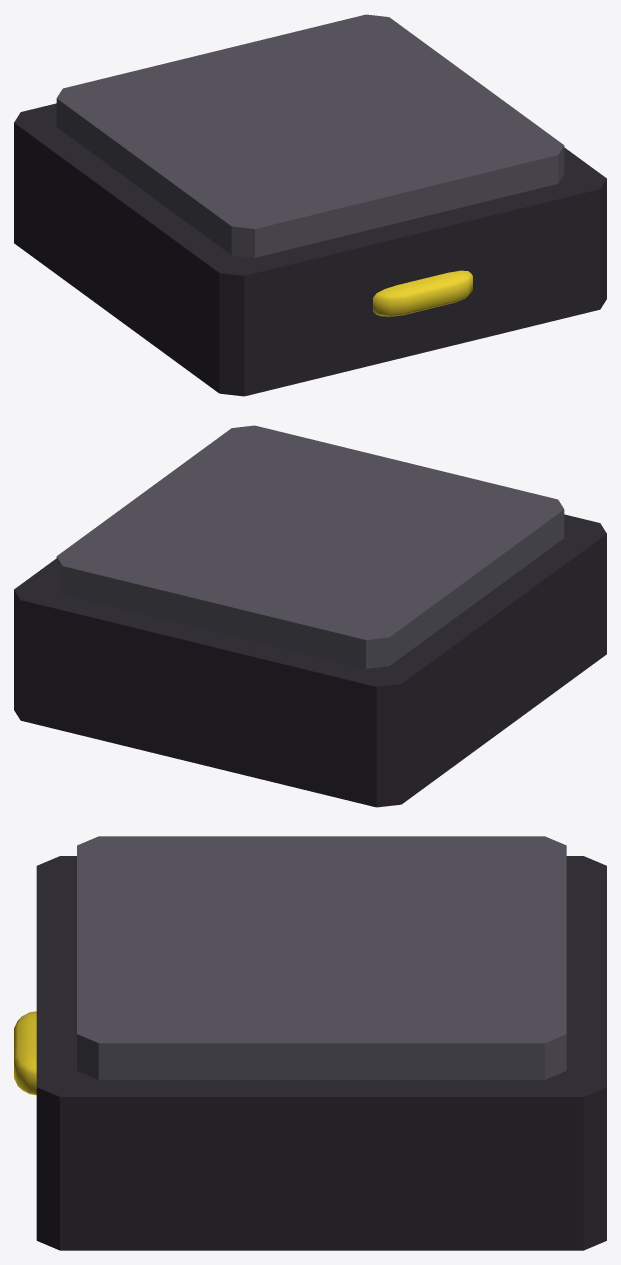
The model's file is Telescopic_Base.fbx.
3 renders of one model, top to bottom at view 1: azimuth 30°, elevation 25°; view 2: azimuth 150°, elevation 25°; view 3: azimuth 270°, elevation 25°, orthographic. The views are drawn at different scales.
Visible parts, largest first — view 1: Cube; view 2: Cube; view 3: Cube.
Boxes of the visible parts, x1,y1,x2,y2 form: Cube: (14, 14, 606, 396); Cube: (14, 425, 606, 807); Cube: (14, 836, 606, 1250).
Size of the model in its own units: 200 by 73.67 by 208.
